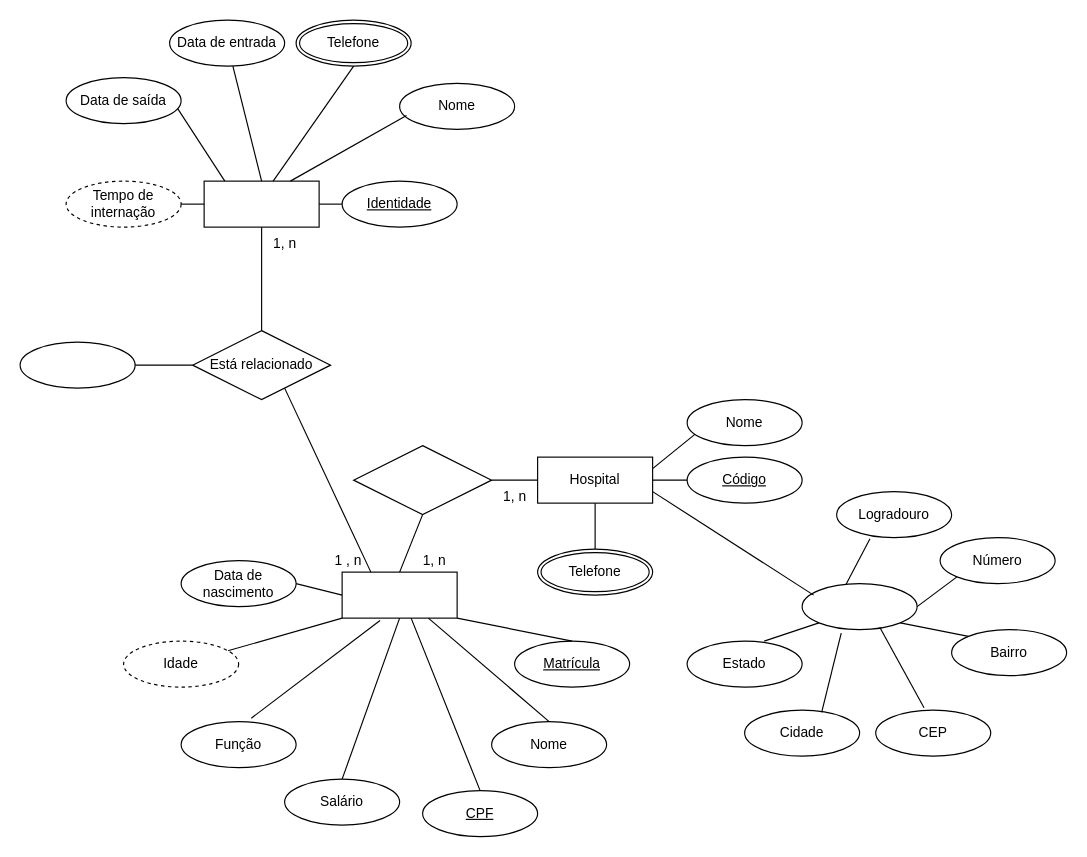
This 1087x857 diagram has some shape labels left out. The box of each missing label's shape, as (x1, y1, x2, y2) in pixels:
Duração do tratamento: (19, 341, 135, 388)
Endereço: (801, 582, 917, 630)
Paciente: (203, 180, 319, 227)
Possui: (352, 444, 492, 515)
Profissional: (341, 571, 457, 618)
